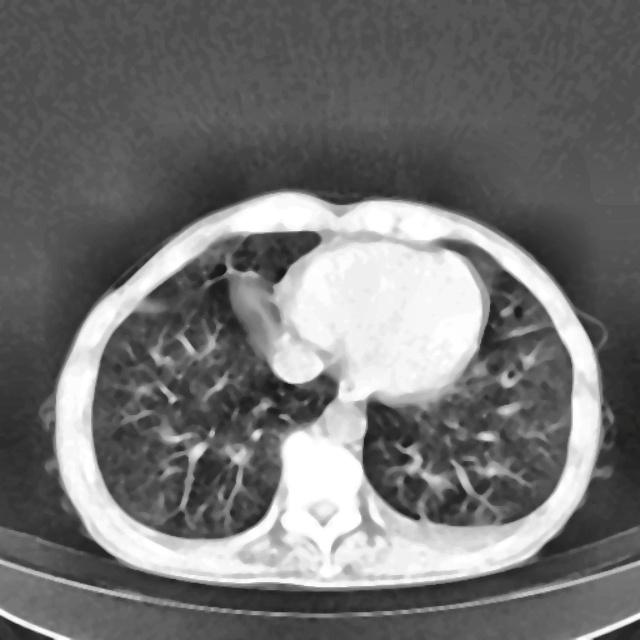covid: (47, 188, 612, 589)
